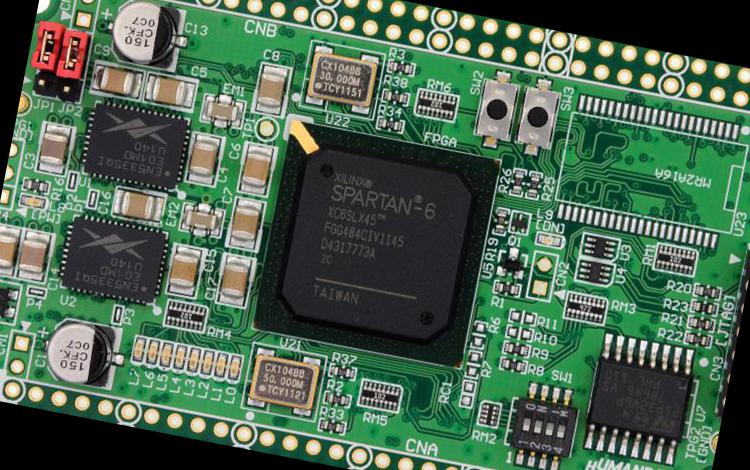Button: (510, 72, 563, 156), (470, 65, 522, 150)
Capacitor: (250, 61, 292, 117), (32, 120, 73, 176), (162, 242, 202, 298), (88, 62, 146, 100), (182, 129, 222, 184), (235, 140, 274, 196), (110, 185, 167, 223), (224, 196, 264, 250), (214, 254, 254, 308), (14, 228, 54, 282), (144, 73, 197, 113), (0, 222, 23, 279)
Clock: (301, 42, 386, 121), (240, 342, 325, 420)
Connector: (43, 0, 749, 119), (0, 368, 703, 469), (714, 246, 749, 416), (0, 138, 26, 210), (525, 249, 558, 301), (3, 330, 33, 376), (52, 74, 82, 103), (69, 0, 99, 29), (29, 66, 57, 96)
Diode: (0, 277, 23, 326)
EM: (180, 201, 226, 235), (199, 96, 245, 127)
Electrolytic Capacitor: (100, 0, 193, 74), (44, 314, 122, 390)
IC: (248, 120, 499, 370), (577, 330, 698, 464), (53, 208, 173, 308), (76, 96, 193, 192), (571, 256, 614, 288), (578, 230, 619, 260)
Inductor: (506, 210, 530, 234)
Jumper: (53, 24, 91, 82), (28, 18, 66, 74)
Led: (211, 349, 230, 382), (152, 332, 170, 364), (534, 231, 564, 249), (224, 354, 242, 384), (15, 191, 46, 208), (185, 347, 202, 376), (156, 340, 172, 370), (199, 348, 215, 378), (144, 338, 159, 367), (130, 333, 144, 362)
Pads: (554, 92, 749, 251), (466, 317, 489, 350), (504, 305, 537, 326), (502, 321, 535, 342), (457, 378, 476, 408), (463, 349, 482, 378)
Resistor Jumper: (652, 241, 698, 276), (355, 380, 402, 414), (162, 298, 209, 331), (413, 88, 458, 122), (561, 292, 608, 324), (475, 399, 500, 428)
Resistor Network: (490, 278, 524, 298), (681, 330, 712, 349), (20, 172, 49, 192), (499, 340, 531, 358), (326, 362, 356, 380), (684, 315, 715, 332), (524, 170, 542, 199), (689, 298, 718, 316), (321, 389, 350, 407), (374, 116, 404, 133), (380, 88, 408, 106), (692, 282, 720, 300), (509, 167, 526, 196), (497, 356, 526, 373), (316, 418, 346, 434), (386, 58, 414, 75), (492, 205, 506, 235)
Switch: (504, 377, 581, 469)
Test Point: (251, 113, 280, 143), (16, 93, 36, 118), (108, 302, 124, 324), (83, 186, 98, 209), (26, 284, 48, 298), (708, 430, 718, 456), (66, 170, 78, 190)
Transistor: (492, 244, 528, 282)
